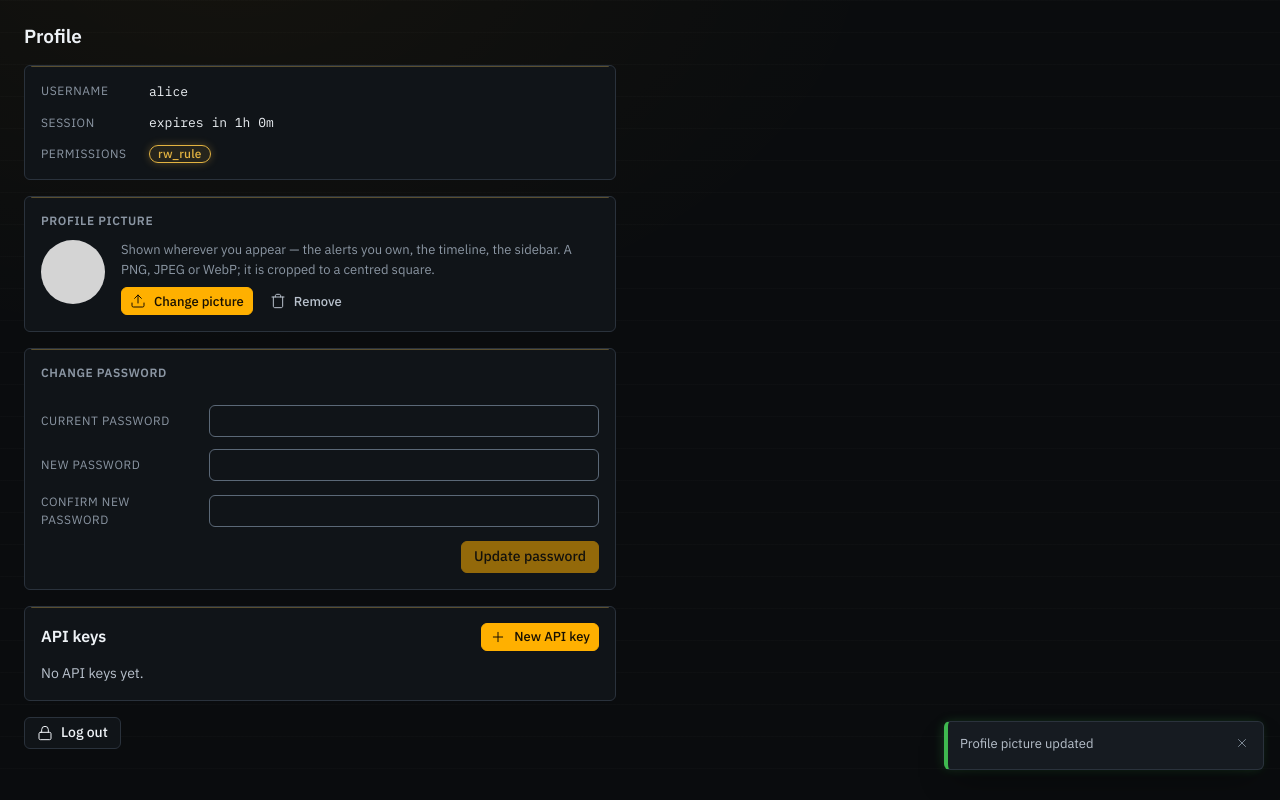
Test case: Profile — profile picture › offers Remove only with a stored picture, and DELETEs it
Click the button "Remove" at (306, 301), box [261,287,351,315]
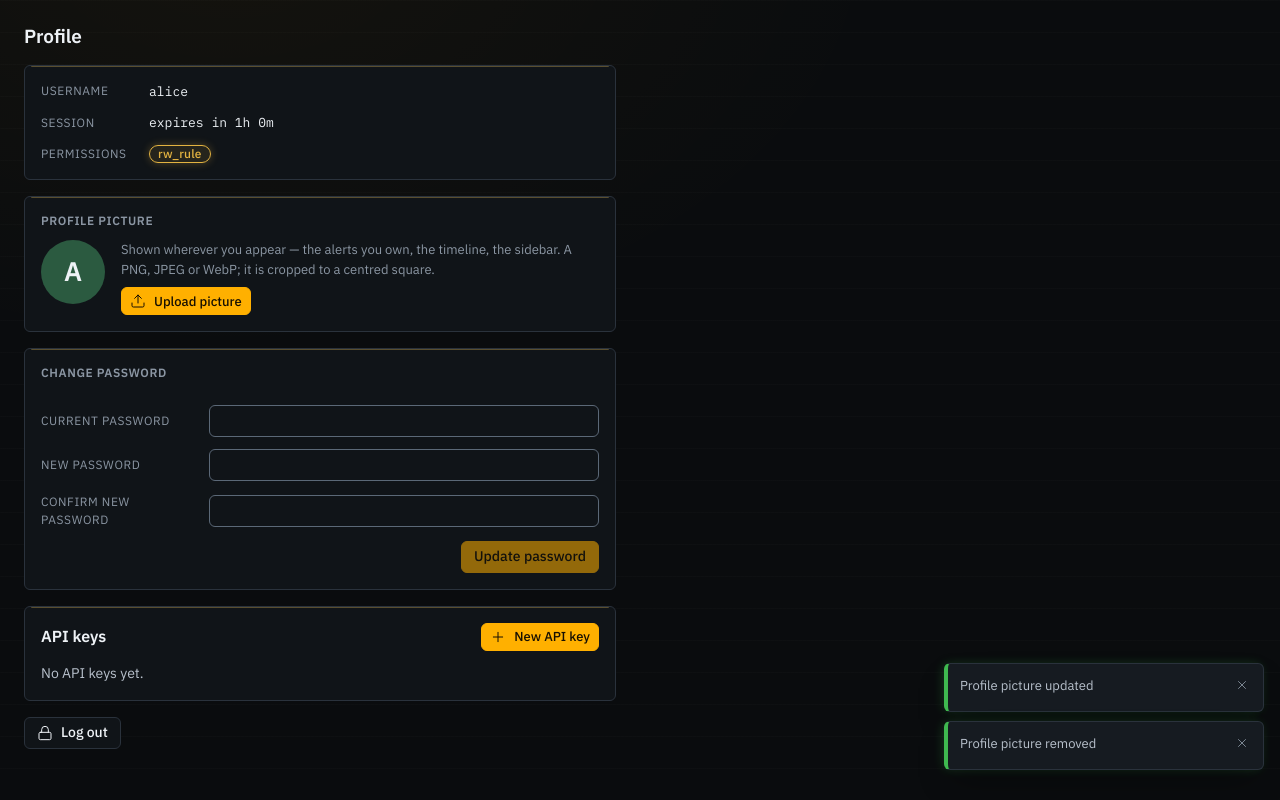
Check: the button "Upload picture" is shown, box [121,287,251,315]
